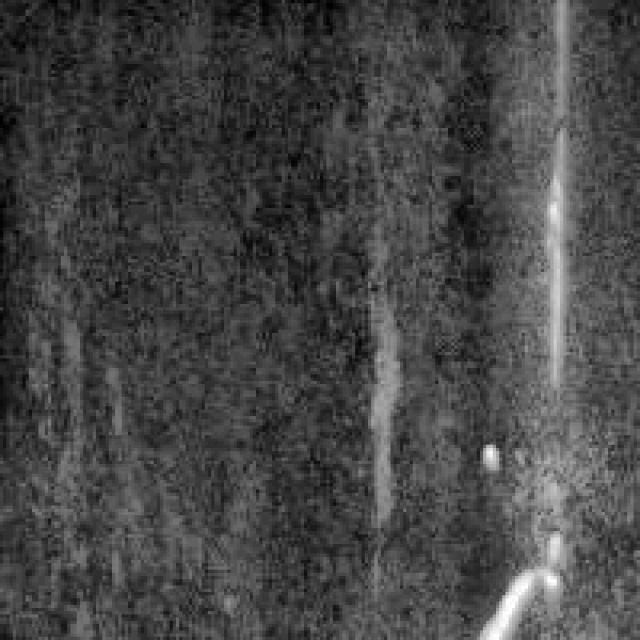Inclusion: (531, 125, 570, 384), (470, 524, 560, 634)
